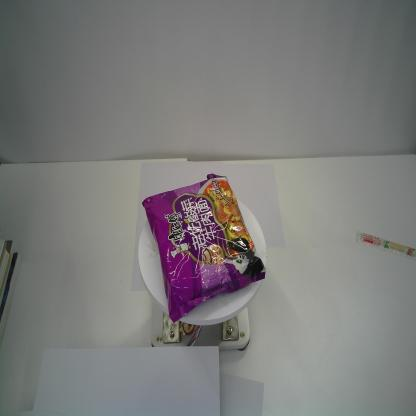Instant Noodles: (141, 173, 266, 324)
